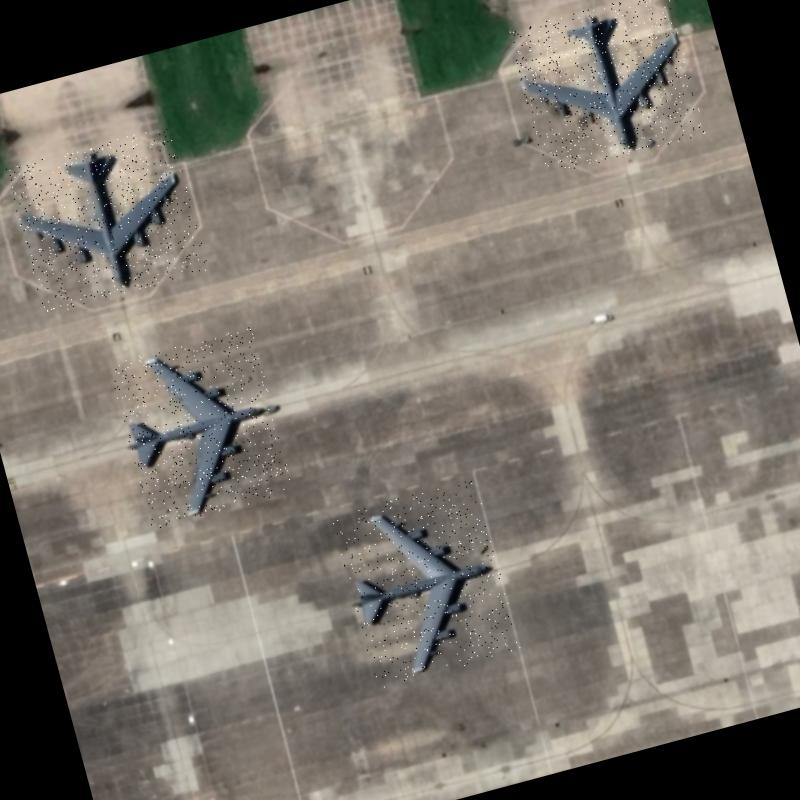A8: (330, 478, 522, 690), (5, 124, 209, 315), (108, 326, 295, 530), (507, 0, 705, 177)
